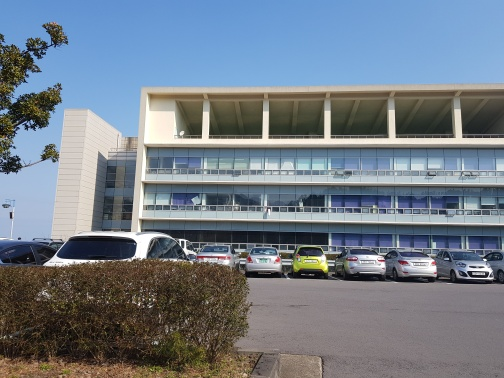Engineering College Building 4: (63, 75, 504, 246), (145, 86, 504, 240), (51, 100, 135, 231)
